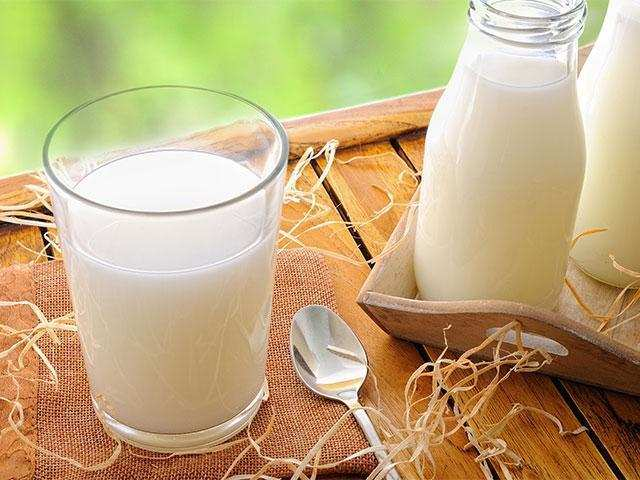glass of milk: (22, 94, 297, 443), (418, 12, 586, 314)
